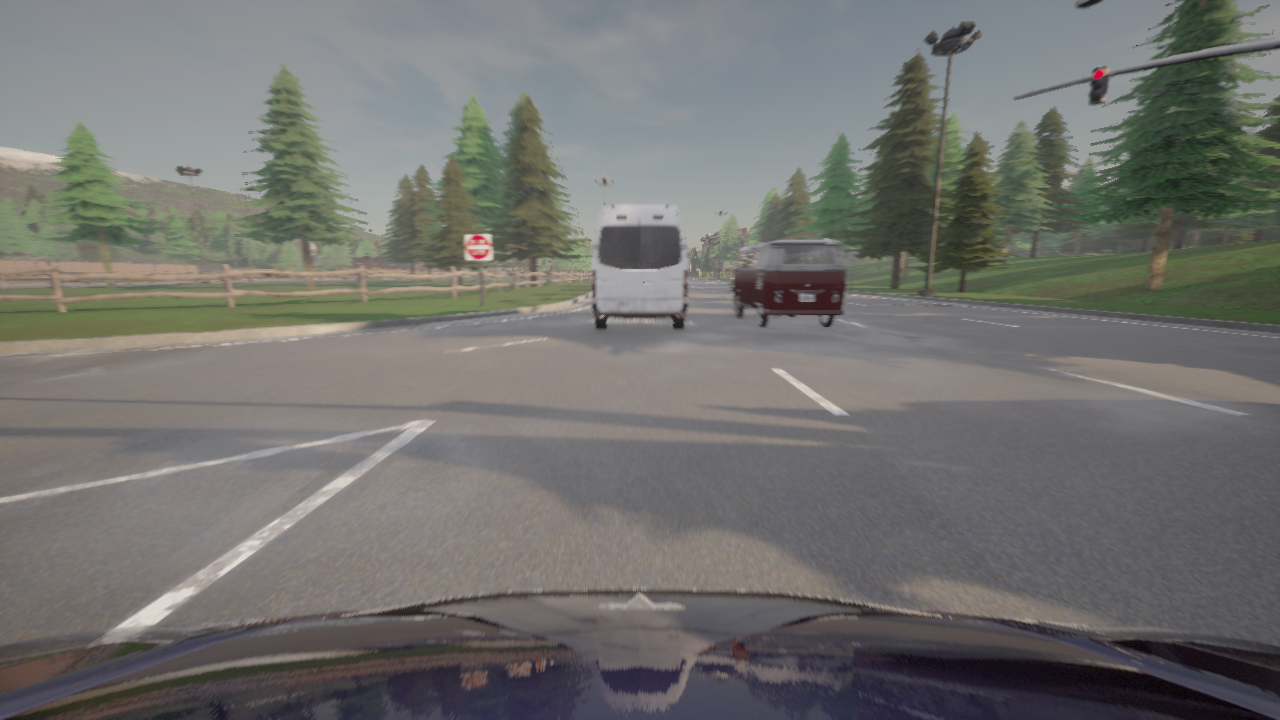cyclist: (0, 588, 1279, 719), (591, 204, 688, 329), (731, 238, 846, 327), (729, 275, 733, 291)
